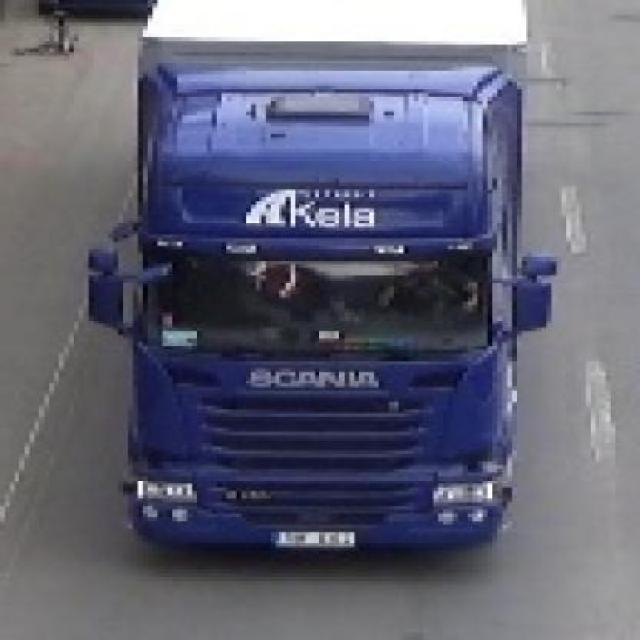truck: (89, 1, 562, 549)
